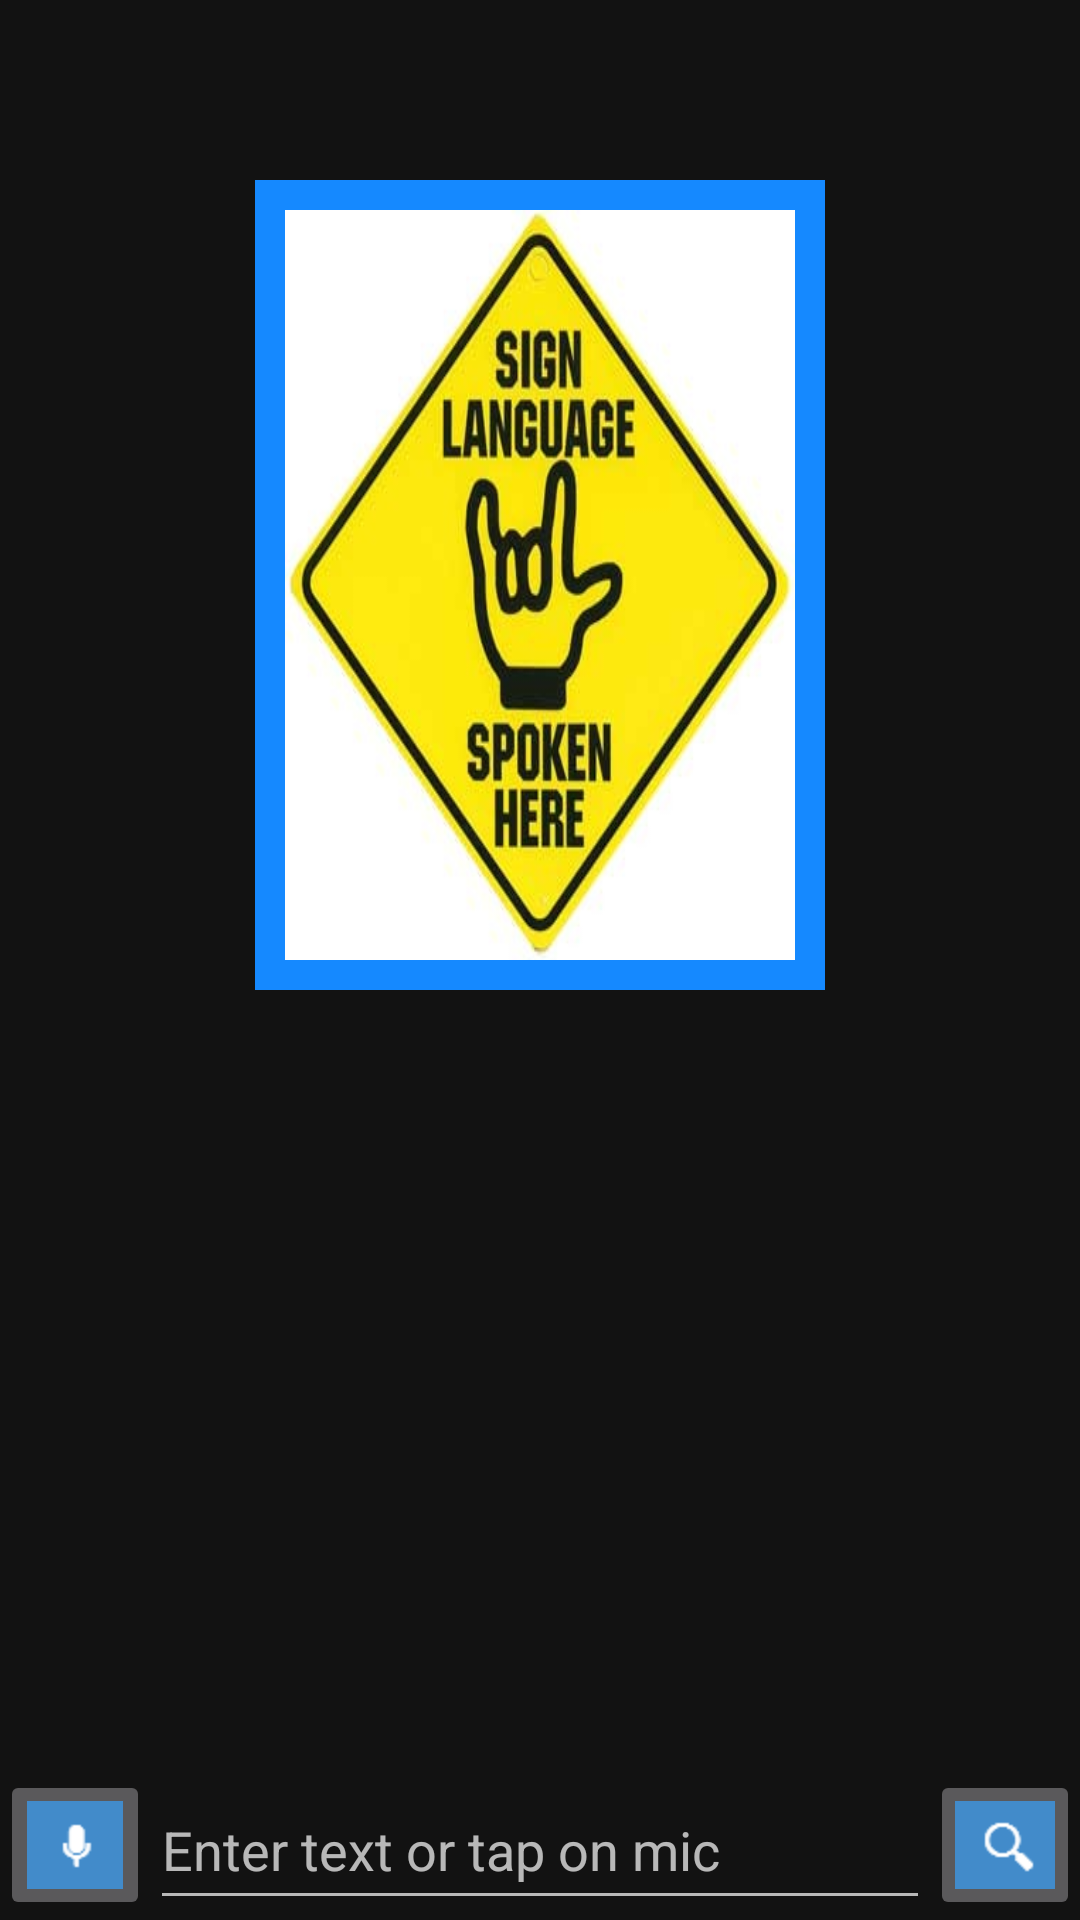

Named icons in this screenshot (1080px x 1920px) and their centers, (x=x, y=y):
micblue: (x=75, y=1845)
searchblue: (x=1005, y=1845)
